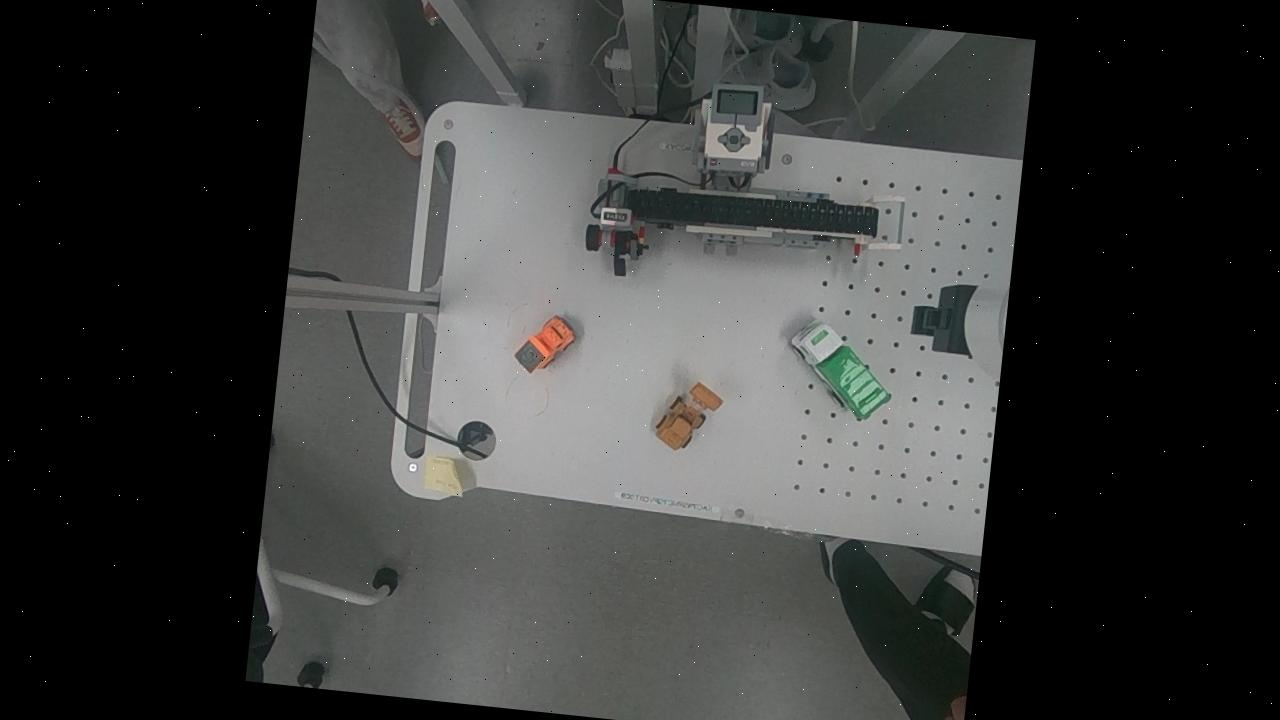green_car: (776, 312, 900, 430)
orange_car: (505, 312, 583, 386)
yellow_car: (641, 377, 724, 459)
